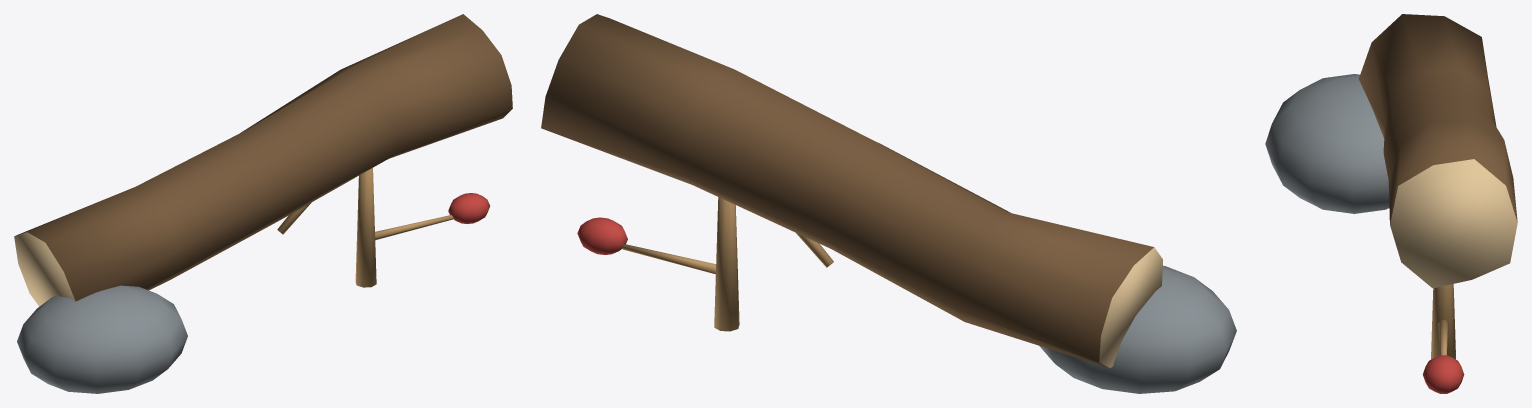
Rendered from trap.glb.
3 renders of one model, left to right at view 1: azimuth 30°, elevation 25°; view 2: azimuth 150°, elevation 25°; view 3: azimuth 270°, elevation 25°, orthographic. The views are drawn at different scales.
Parts seen in each view (by area): view 1: deadfall_weight, back_stop, trigger_upright, bait, bait_stick; view 2: deadfall_weight, back_stop, trigger_upright, bait, bait_stick; view 3: deadfall_weight, back_stop, trigger_upright, bait, bait_stick.
Part boxes in pixels (x1,y1,x2,y2): deadfall_weight: (14, 14, 512, 306); back_stop: (17, 285, 187, 393); trigger_upright: (355, 168, 376, 287); bait: (448, 193, 489, 223); bait_stick: (375, 215, 453, 239); deadfall_weight: (541, 14, 1162, 367); back_stop: (1039, 265, 1236, 393); trigger_upright: (714, 197, 739, 331); bait: (577, 217, 627, 254); bait_stick: (622, 244, 715, 274); deadfall_weight: (1359, 14, 1517, 288); back_stop: (1265, 74, 1389, 213); trigger_upright: (1431, 284, 1455, 359); bait: (1422, 355, 1464, 393); bait_stick: (1438, 319, 1448, 355).
Size of the model in its own units: 1.19 by 0.5179 by 0.4249.
